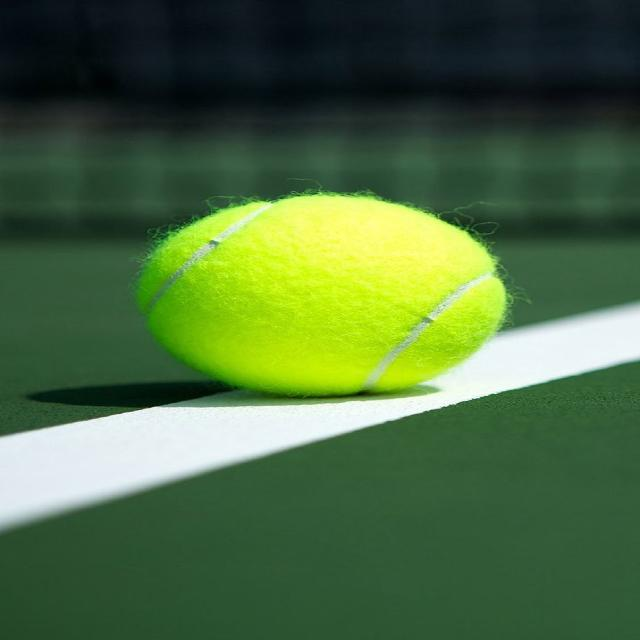tennis: (128, 195, 510, 408)
